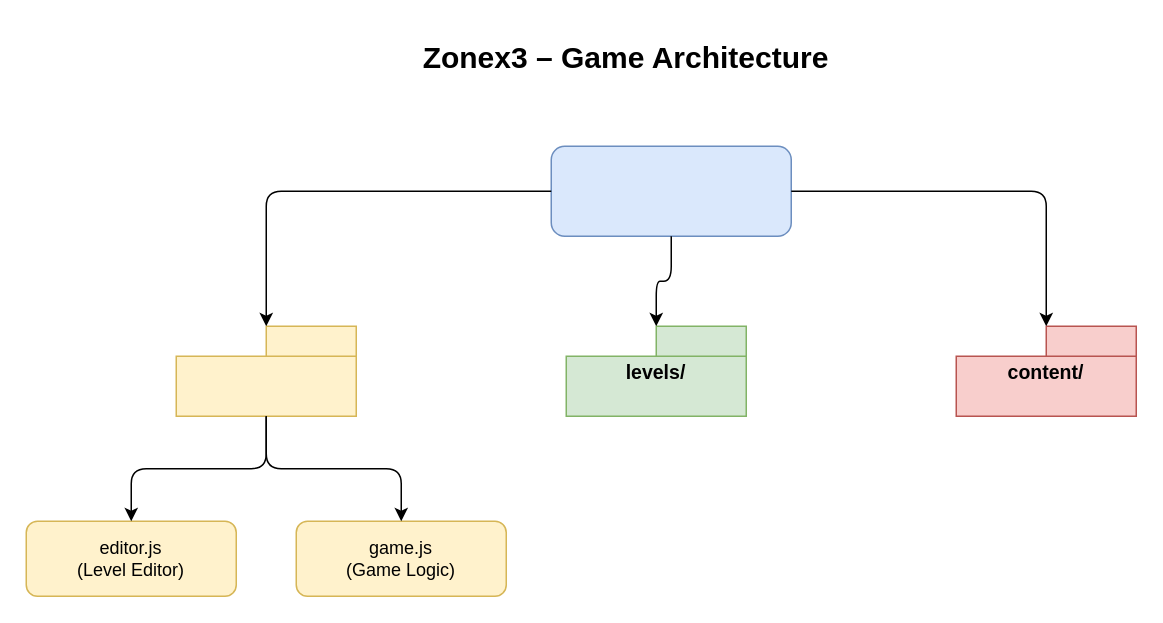
The diagram is 1163 pixels wide and 623 high, and some of its shapes have lost their labels. Here are the shapes that lost their labels. From the top down, the centre of each, then its label:
(670,190): index.html (Entry Point)
(265,370): js/
